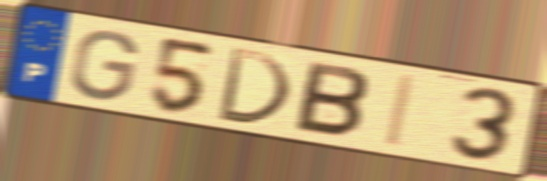3: (447, 86, 523, 165)
5: (146, 33, 218, 119)
B: (289, 58, 372, 141)
D: (213, 44, 294, 129)
G: (67, 28, 142, 103)
I: (382, 72, 420, 151)
